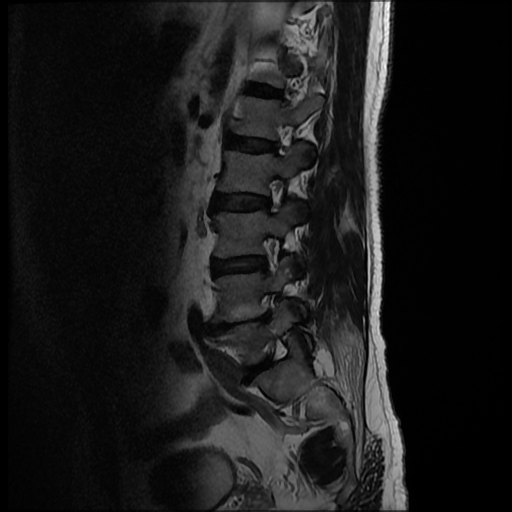LFS0: (253, 224, 286, 282), (256, 169, 290, 222)
